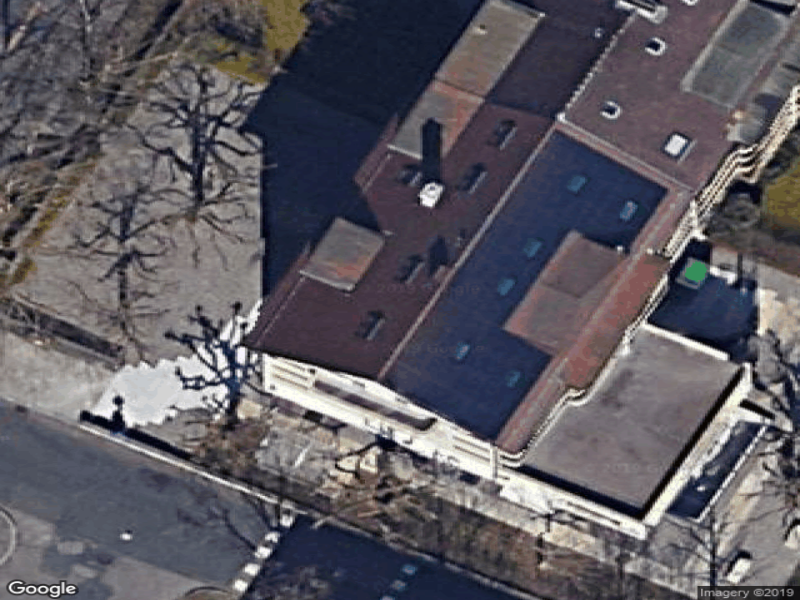pv: (392, 129, 667, 444)
